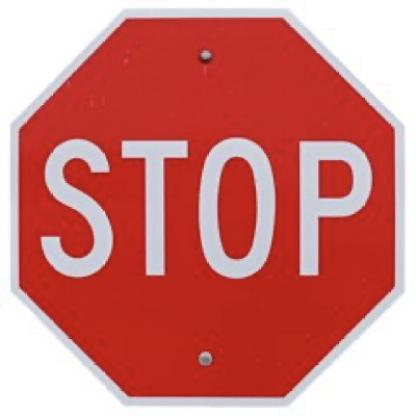Stop: (10, 13, 404, 408)
